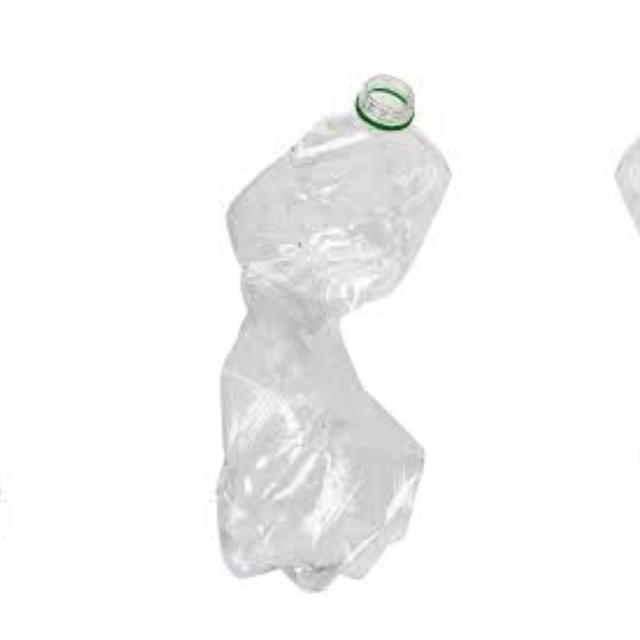Plastic: (140, 49, 446, 620), (0, 49, 73, 620), (620, 49, 640, 620)
